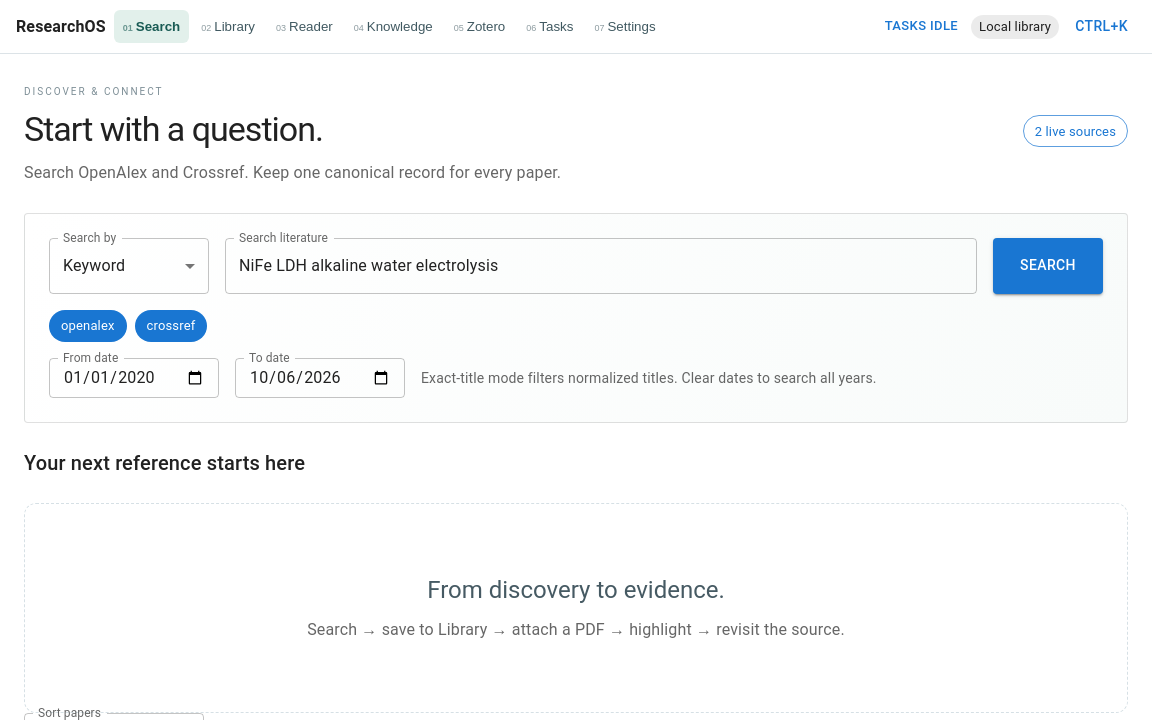
opens material bank and shows its empty state
Click the button "04Knowledge": (393, 26) [345,10,442,43]
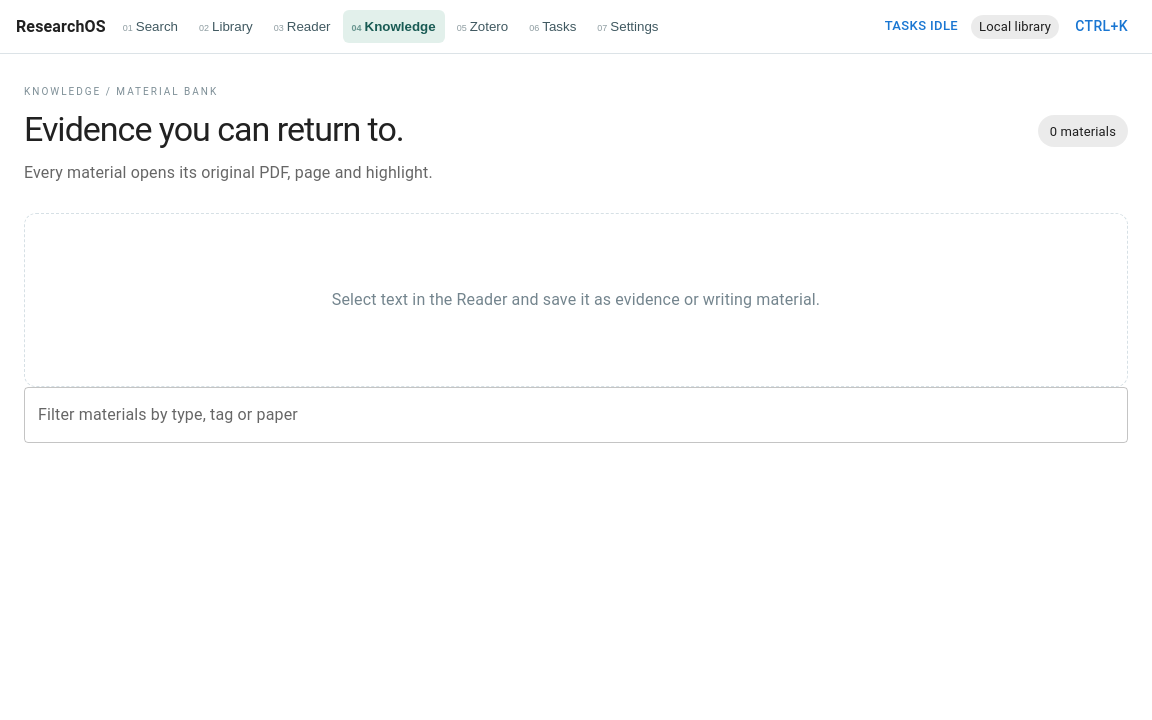
Check: the heading "Evidence you can return to." is shown, box [24,109,433,151]
